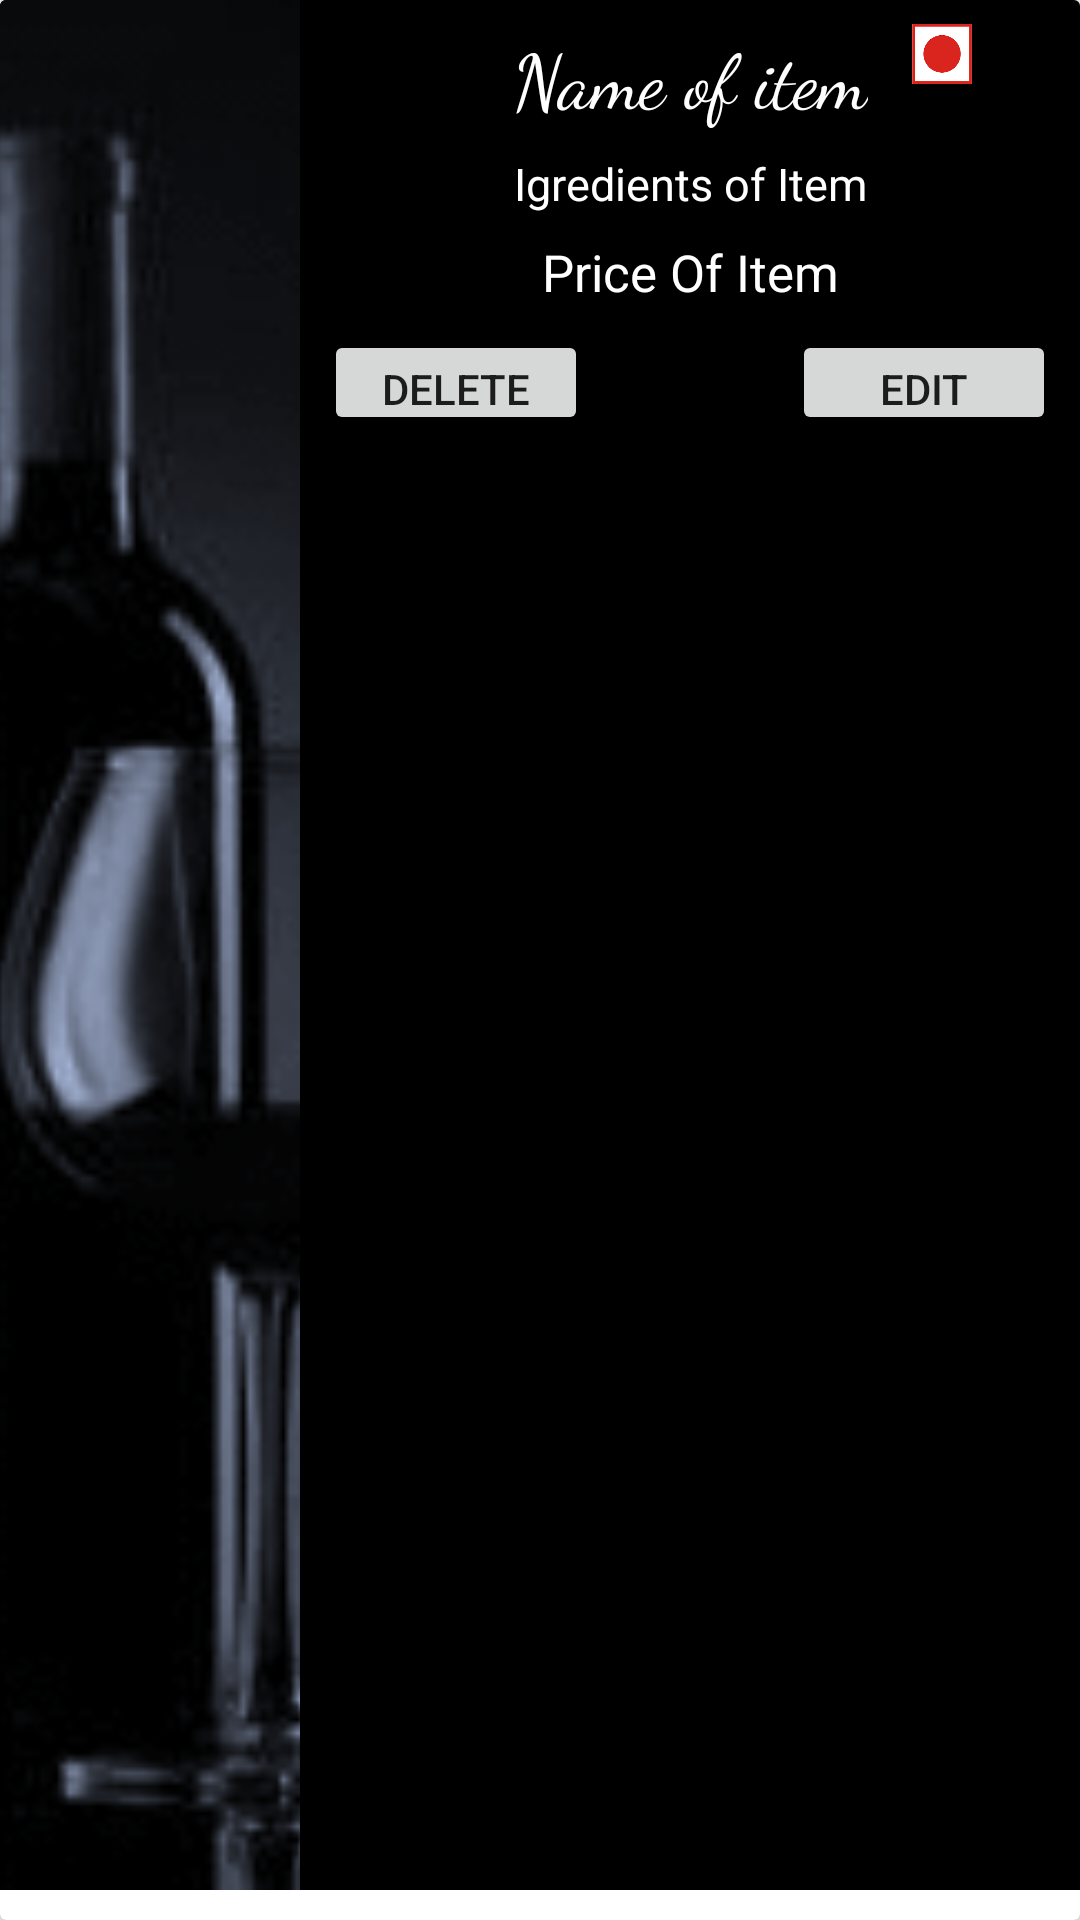

Icons on this 1080x1920 Android screen, each with its box as region(x1, y1, x2, y2):
nonveg: region(912, 24, 972, 84)
